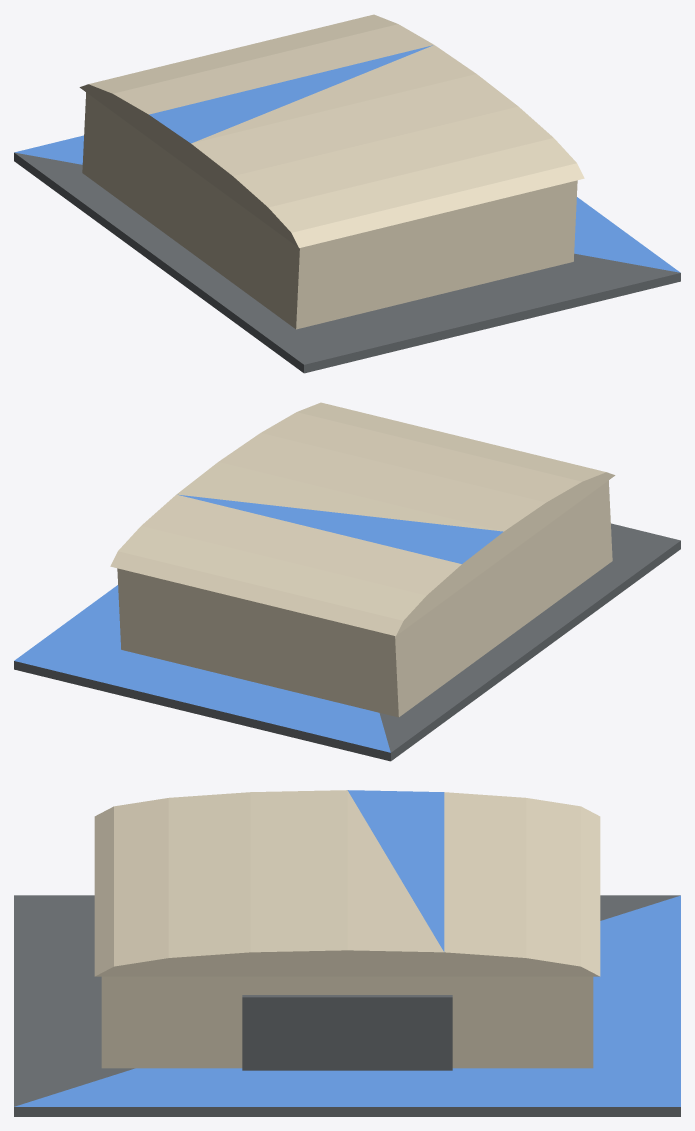
The model's file is meridian_vehicle_factory_heavily_damaged.glb.
3 views of the same model, one above another, from view 1: azimuth 30°, elevation 25°; view 2: azimuth 150°, elevation 25°; view 3: azimuth 270°, elevation 25° (orthographic). The views are drawn at different scales.
Parts seen in each view (by area): view 1: hull; view 2: hull; view 3: hull, door.
Boxes of the visible parts, x1,y1,x2,y2 form: hull: (14,14,680,373); hull: (14,402,680,761); hull: (14,790,680,1116); door: (242,995,452,1070).
Size of the model in its own units: 11.4 by 3.35 by 15.2.
